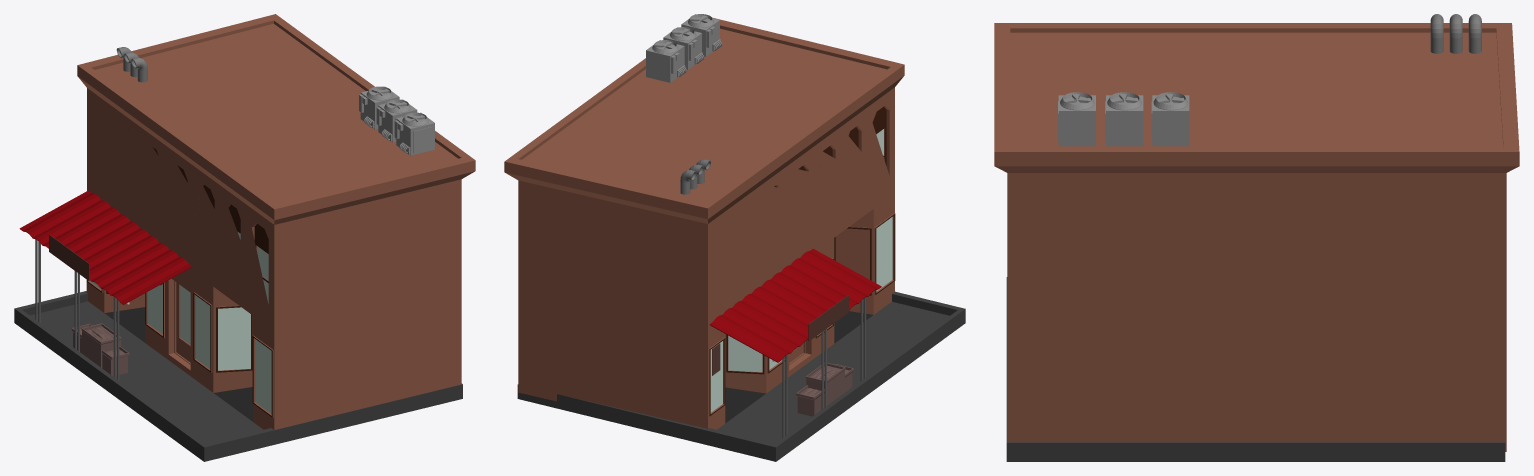
Rendered from Market.fbx.
3 views of the same model, side by side, from view 1: azimuth 30°, elevation 25°; view 2: azimuth 150°, elevation 25°; view 3: azimuth 270°, elevation 25° (orthographic). The views are drawn at different scales.
Parts seen in each view (by area): view 1: Cube.028, Cube.029, Plane.045, Cube.006, Cube.031, Cube.007, Cube.030, Cylinder.067, Cube.005, Plane.059, Cylinder.118; view 2: Cube.028, Cube.029, Plane.045, Cube.031, Cube.006, Cube.030, Cube.007, Cylinder.067, Cube.005, Plane.059, Cylinder.118; view 3: Cube.028, Cube.029, Cube.031, Cylinder.118.
Part boxes in pixels (x1,y1,x2,y2): Cube.028: [77, 14, 475, 429]; Cube.029: [14, 291, 462, 461]; Plane.045: [19, 190, 192, 304]; Cube.006: [89, 231, 271, 413]; Cube.031: [359, 86, 434, 155]; Cube.007: [86, 129, 272, 417]; Cube.030: [71, 323, 129, 376]; Cylinder.067: [35, 239, 119, 380]; Cube.005: [104, 307, 252, 421]; Plane.059: [49, 234, 89, 280]; Cylinder.118: [116, 47, 147, 82]; Cube.028: [504, 17, 904, 429]; Cube.029: [517, 291, 965, 461]; Plane.045: [709, 248, 881, 362]; Cube.031: [646, 14, 722, 82]; Cube.006: [710, 129, 892, 412]; Cube.030: [796, 363, 853, 416]; Cube.007: [710, 106, 895, 415]; Cylinder.067: [782, 297, 866, 438]; Cube.005: [725, 311, 872, 423]; Plane.059: [808, 295, 848, 341]; Cylinder.118: [680, 159, 710, 194]; Cube.028: [994, 23, 1519, 451]; Cube.029: [1006, 277, 1505, 461]; Cube.031: [1058, 92, 1189, 146]; Cylinder.118: [1430, 14, 1481, 53].
Size of the model in its own units: 691 by 673 by 897.
